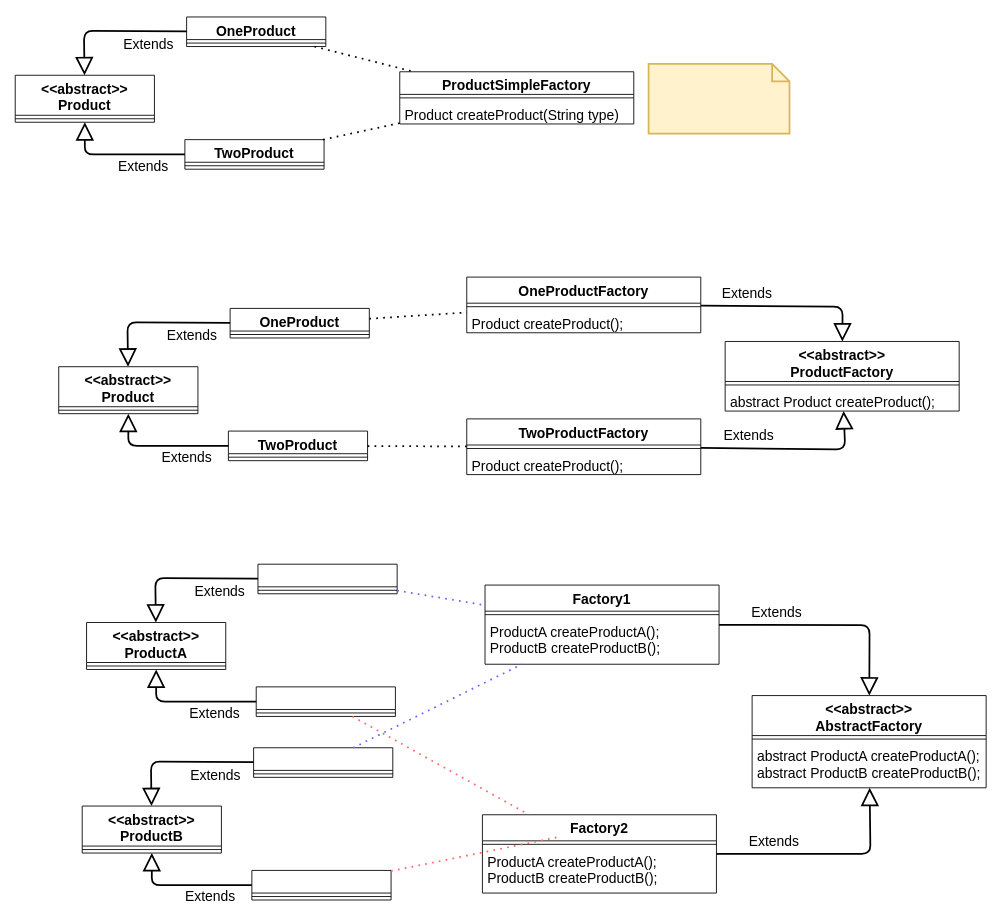
Some shapes in this 1001 by 920 pixel diagram are drawn without their labels. Here are the shapes that lost their labels. From the top down, the centre of each, then its label:
At point (718, 98): "根据不同 type 返回不同的 Product 子类".
At point (327, 578): "ProductA1".
At point (325, 701): "ProductA2".
At point (323, 762): "ProductB1".
At point (321, 885): "ProductB2".
